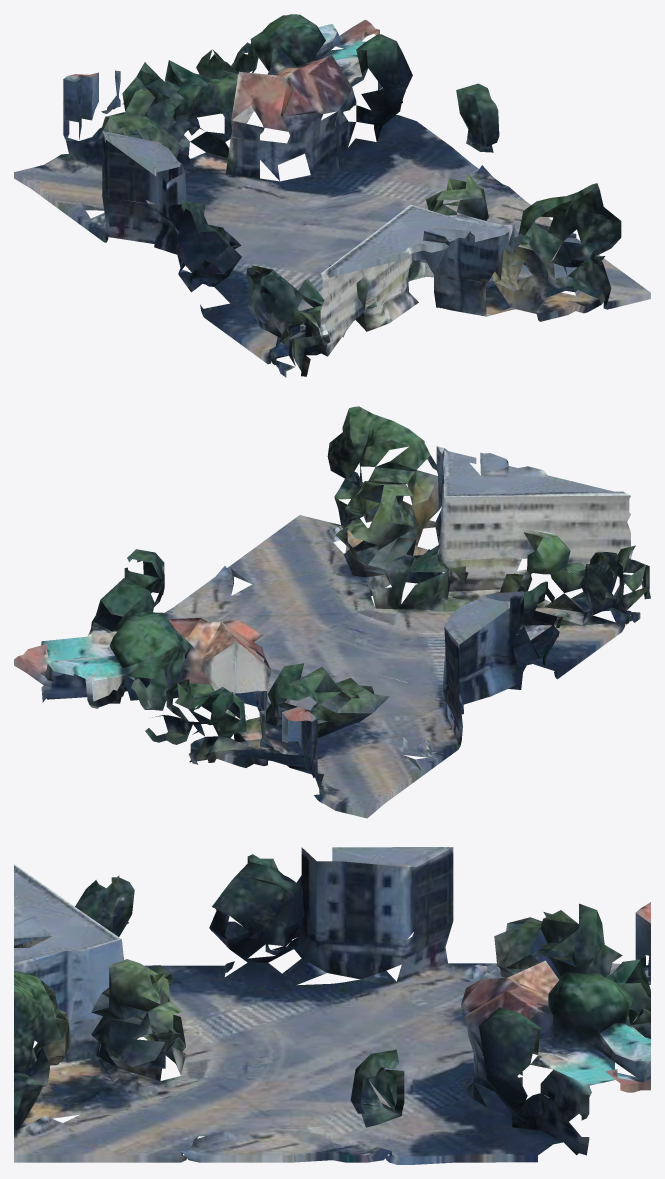
3 views of the same model, one above another, from view 1: azimuth 30°, elevation 25°; view 2: azimuth 150°, elevation 25°; view 3: azimuth 270°, elevation 25° (orthographic). The views are drawn at different scales.
Parts seen in each view (by area): view 1: 3043627270436163543_0; view 2: 3043627270436163543_0; view 3: 3043627270436163543_0.
Boxes of the visible parts, left/top/right/bottom form: 3043627270436163543_0: left=14, top=14, right=650, bottom=377; 3043627270436163543_0: left=14, top=406, right=650, bottom=818; 3043627270436163543_0: left=14, top=847, right=650, bottom=1164.
Size of the model in its own units: 54.61 by 19.42 by 76.52.
Materials: 1 (1 with a texture image).
